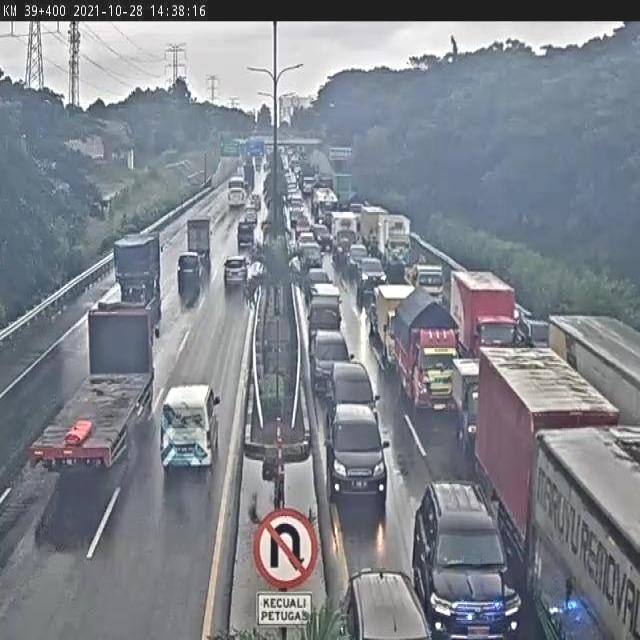Bus: (226, 174, 246, 207)
Car: (412, 477, 522, 640), (324, 402, 389, 506), (327, 358, 382, 424), (308, 329, 358, 399), (355, 256, 389, 293), (223, 255, 250, 287), (176, 252, 202, 284)
Truck: (476, 339, 640, 640), (31, 300, 155, 477), (549, 317, 639, 437), (392, 284, 464, 414), (449, 266, 521, 361), (112, 231, 166, 299), (374, 212, 414, 266), (406, 259, 446, 308), (186, 216, 214, 260), (237, 219, 256, 247)
Van: (159, 383, 222, 472)
